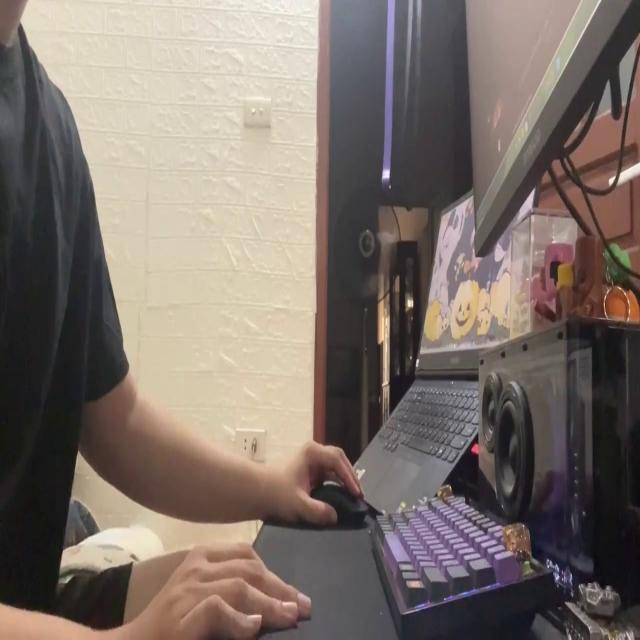laptop: (351, 180, 535, 512), (466, 0, 640, 244)
student: (0, 0, 365, 640)
